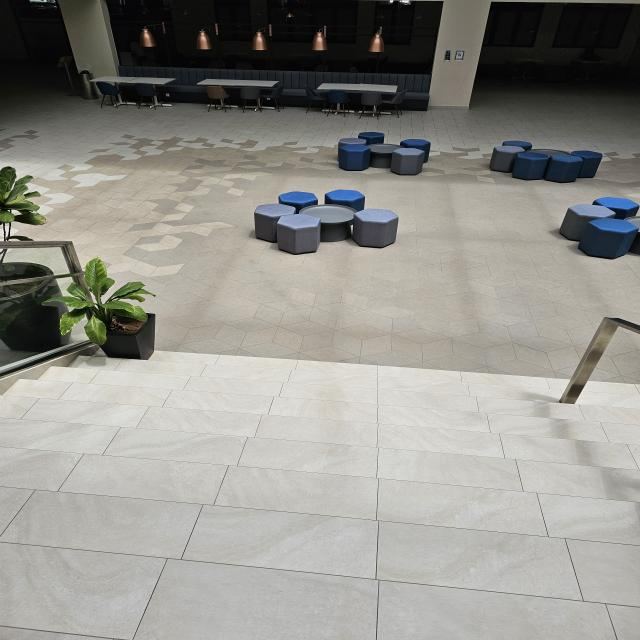footpath: (1, 372, 542, 639)
obstacle: (548, 299, 640, 421), (251, 188, 402, 258), (67, 268, 175, 358), (562, 190, 640, 254)
